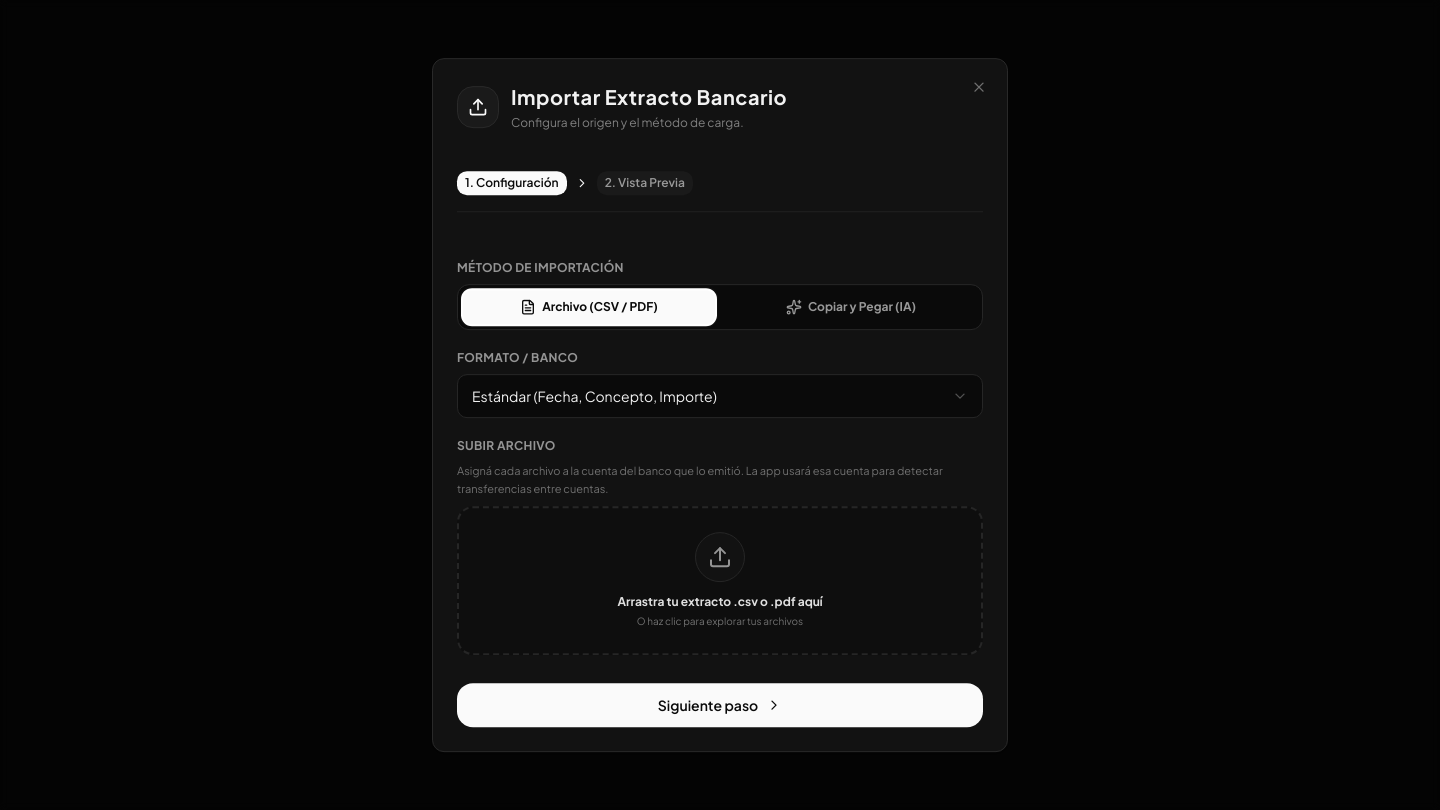
Test case: ImportStatementModal UI › debe mostrar error en Step 1 si se intenta avanzar sin archivo CSV
The width and height of the screenshot is (1440, 810).
Click the button "Siguiente paso" at (720, 705), box left=457, top=683, right=983, bottom=727
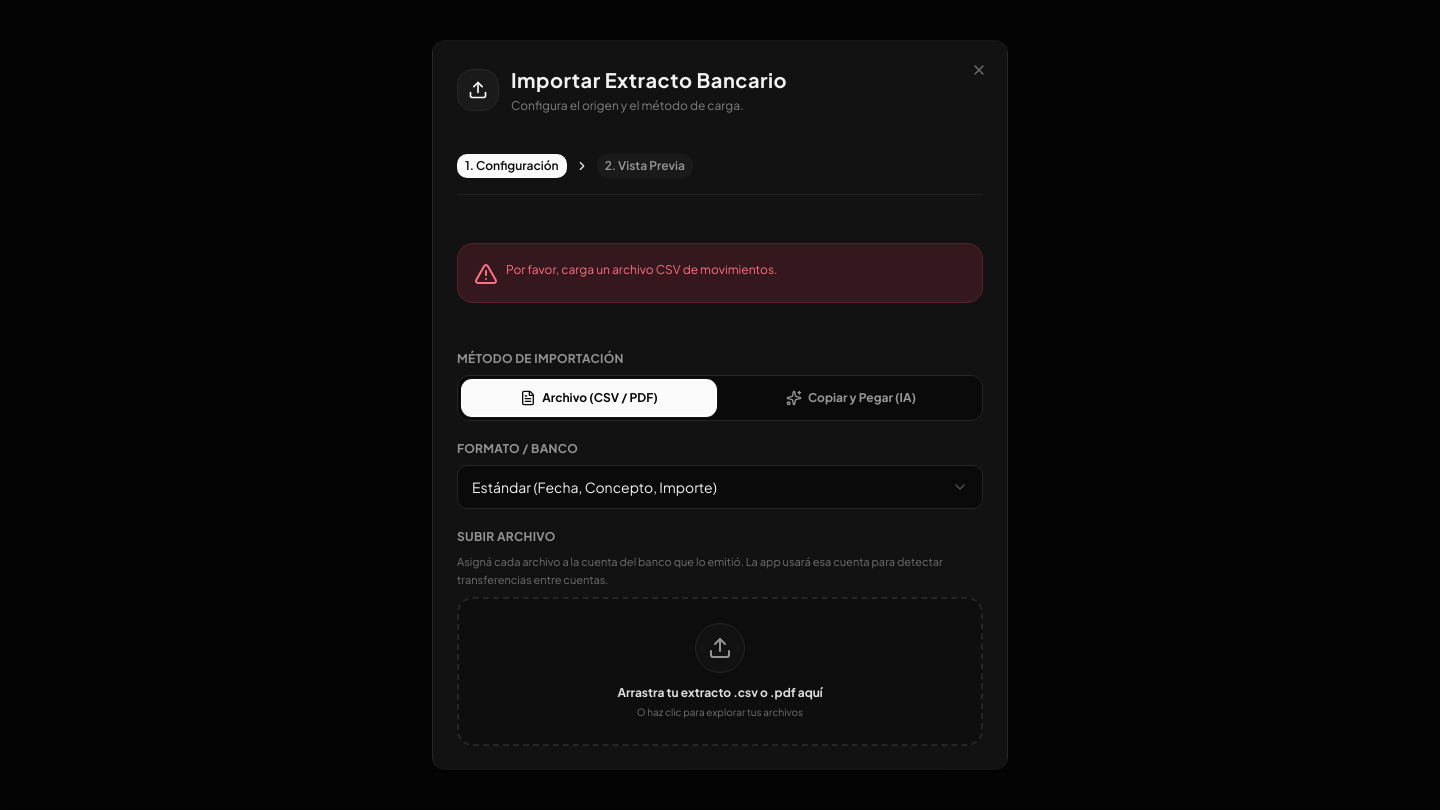
Expected: the text "Por favor, carga un archivo CSV de movimientos." is shown, left=506, top=260, right=777, bottom=279
